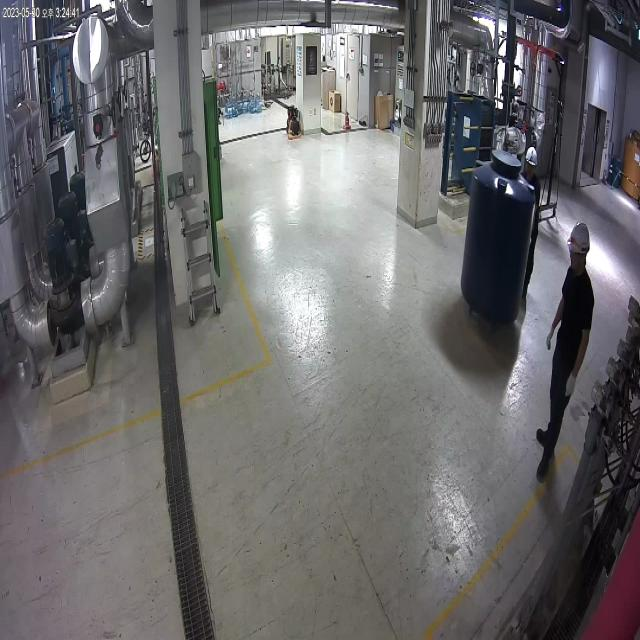Water Tank: (457, 140, 533, 351)
worker: (534, 218, 598, 491), (520, 140, 542, 319)
